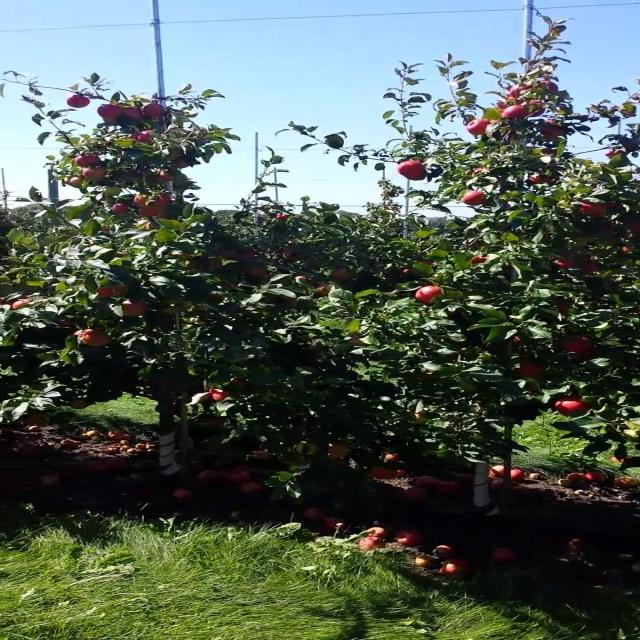apple: (554, 396, 594, 419), (518, 360, 548, 380), (561, 336, 596, 353), (540, 120, 567, 140), (84, 332, 114, 348), (120, 304, 149, 319), (461, 192, 489, 207), (582, 204, 610, 219), (6, 296, 34, 311), (419, 288, 443, 305), (326, 444, 352, 459), (468, 120, 492, 136), (525, 100, 548, 116), (20, 412, 48, 425), (397, 160, 427, 172), (99, 288, 128, 300), (212, 388, 235, 403), (99, 104, 121, 119), (77, 156, 101, 168), (540, 80, 562, 93), (397, 168, 425, 178), (84, 168, 107, 180), (70, 96, 92, 108), (504, 108, 526, 120), (99, 288, 121, 300), (575, 352, 599, 363), (412, 412, 432, 425), (134, 132, 155, 144), (248, 268, 270, 279), (56, 320, 78, 331), (312, 284, 332, 296), (141, 208, 162, 219), (333, 268, 352, 280), (511, 88, 532, 98), (582, 264, 601, 275), (532, 176, 558, 184), (148, 104, 165, 116), (554, 260, 576, 269), (156, 172, 174, 183), (220, 248, 238, 259), (397, 168, 425, 175), (511, 336, 530, 346), (70, 400, 91, 409), (468, 256, 491, 264), (404, 172, 427, 180), (113, 204, 128, 216), (70, 176, 85, 188), (156, 196, 171, 208), (618, 244, 633, 256), (134, 196, 149, 208), (468, 168, 487, 177), (127, 108, 142, 119), (604, 224, 619, 235), (561, 304, 574, 315), (241, 252, 258, 260), (284, 252, 300, 260), (284, 296, 299, 304), (220, 284, 235, 292), (234, 380, 249, 387), (404, 268, 416, 276), (212, 260, 222, 268), (177, 160, 188, 167), (348, 340, 363, 345), (141, 224, 151, 231), (497, 104, 510, 109), (212, 296, 228, 300), (106, 228, 114, 235), (298, 276, 308, 280)
